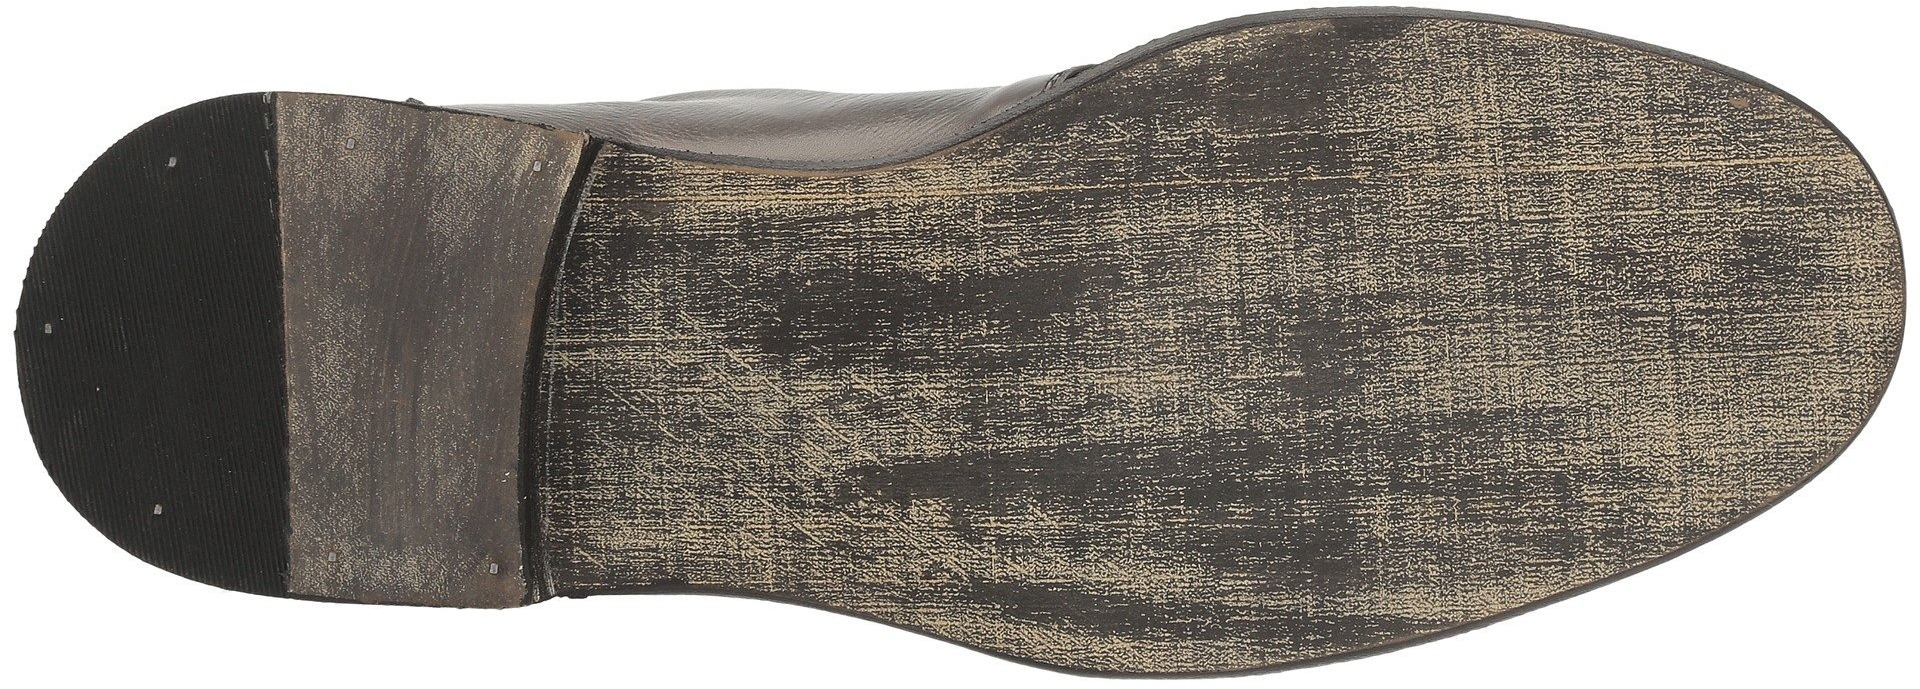other: (96, 337, 247, 496), (86, 177, 239, 330)
